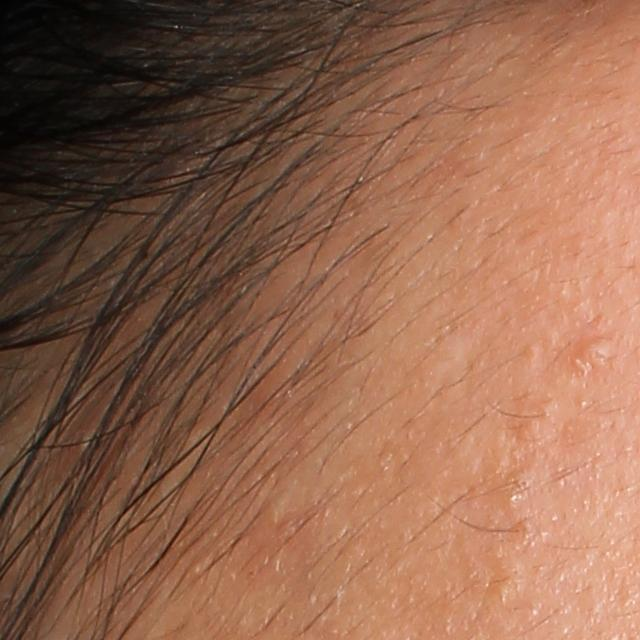comedo: (568, 335, 617, 373)
